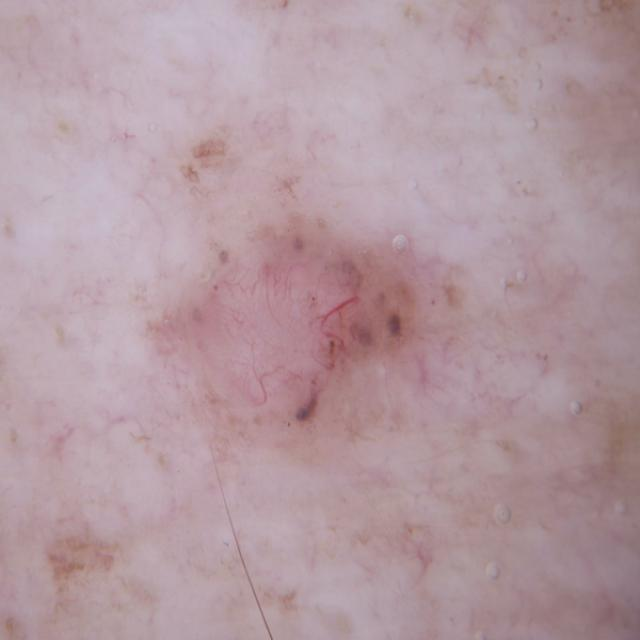Skin-Cancer Basal cell carcinoma: (76, 85, 570, 586)
